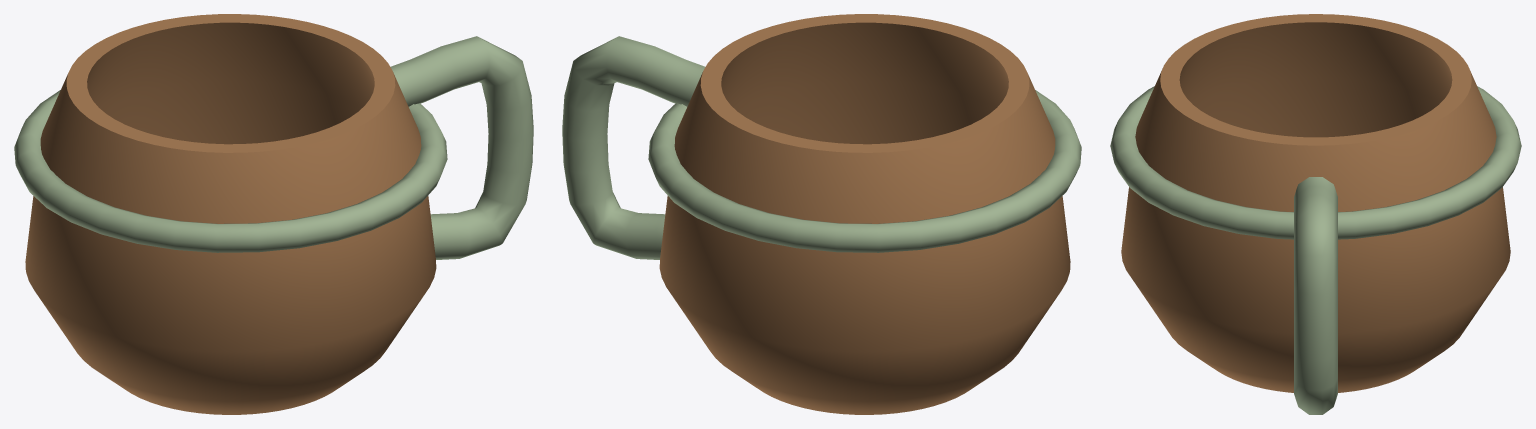
Rendered from grain-measure.glb.
3 renders of one model, left to right at view 1: azimuth 30°, elevation 25°; view 2: azimuth 150°, elevation 25°; view 3: azimuth 270°, elevation 25°, orthographic. The views are drawn at different scales.
Visible parts, largest first — view 1: grain-measure; view 2: grain-measure; view 3: grain-measure.
Boxes of the visible parts, <box> form: grain-measure: <box>14,14,533,414</box>; grain-measure: <box>562,14,1081,414</box>; grain-measure: <box>1110,14,1521,414</box>.
Size of the model in its own units: 0.438 by 0.24 by 0.338.
